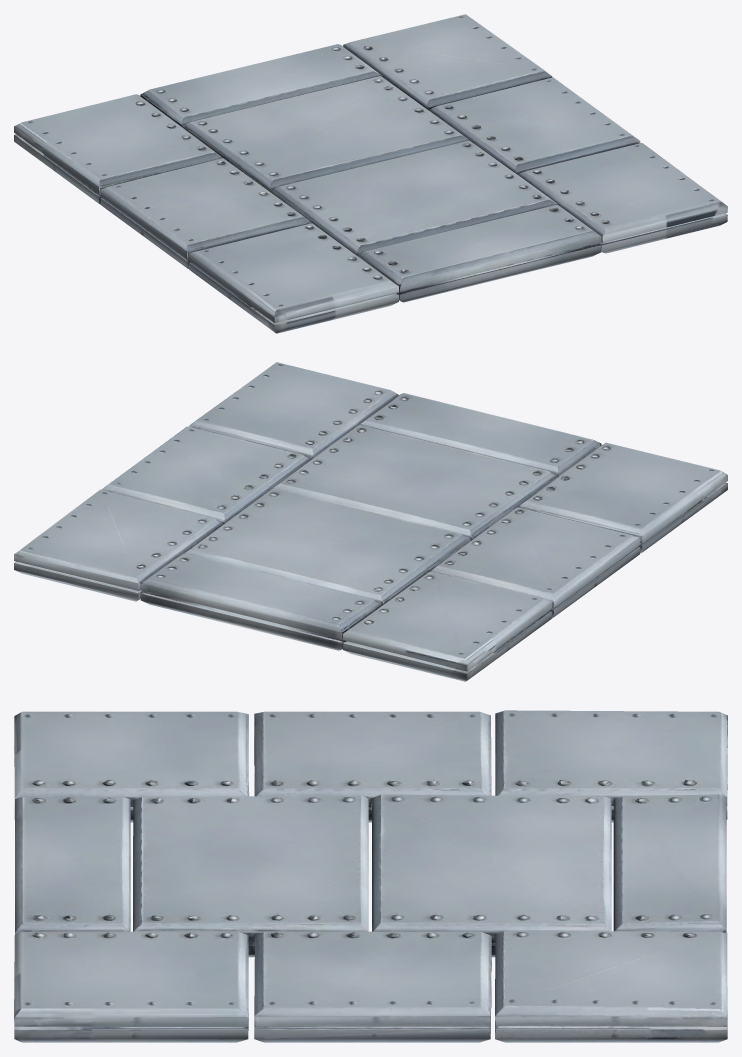
File: blk_cyber_floor.glb
The picture shows the model from 3 angles, top to bottom: view 1: azimuth 30°, elevation 25°; view 2: azimuth 150°, elevation 25°; view 3: azimuth 270°, elevation 25°; orthographic projection. The views are drawn at different scales.
Size of the model in its own units: 0.9565 by 0.0547 by 0.9531.
1 material, 1 textured.
